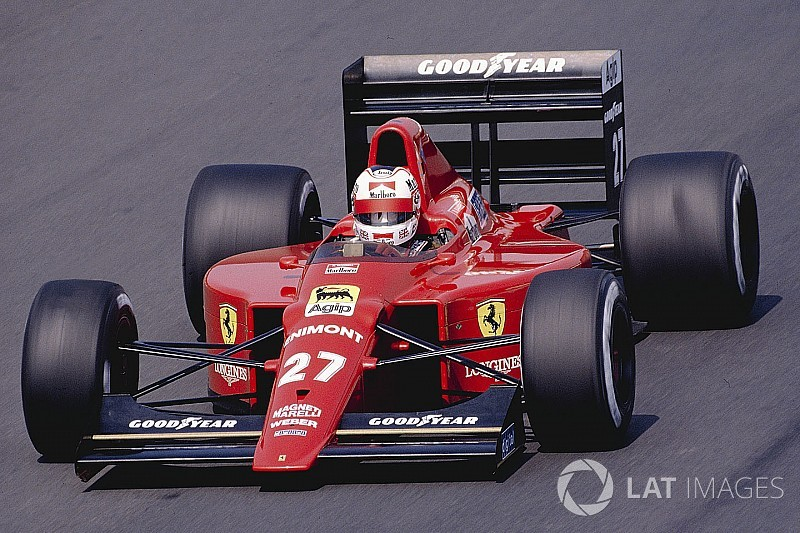f1_car: (12, 42, 774, 500)
